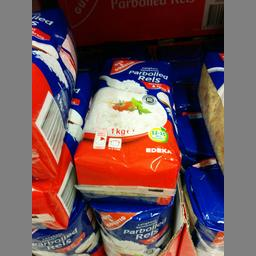rice: (74, 58, 180, 204), (31, 7, 74, 177), (88, 198, 177, 254)
